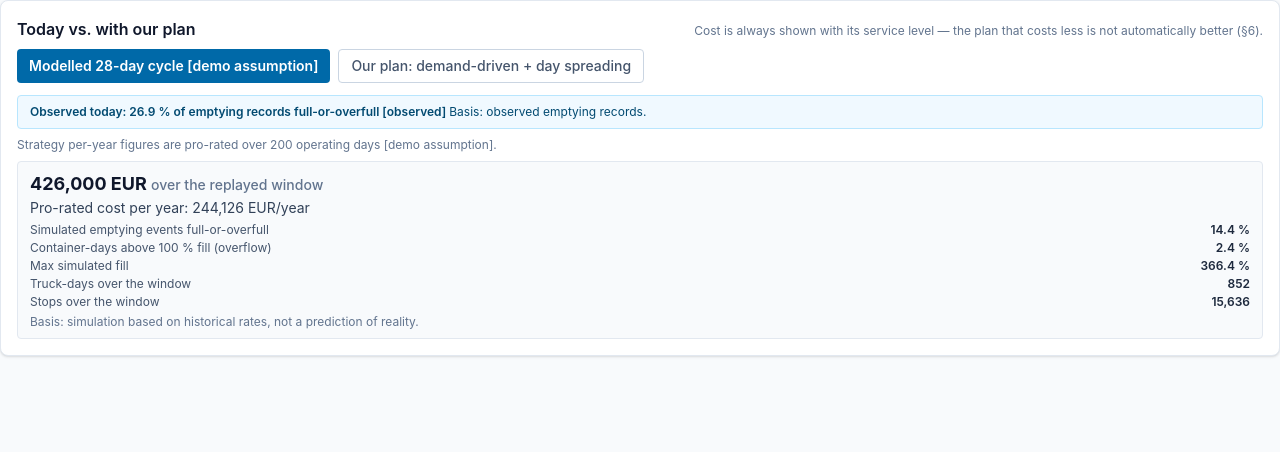
TodayPlanToggle — cost + service together (§6) › plan side shows OUR plan (day_spread) costing LESS with better service, shown straight
The image size is (1280, 452).
Click the button with test id "toggle-plan" at {"x": 491, "y": 66}, box [338,49,644,83]
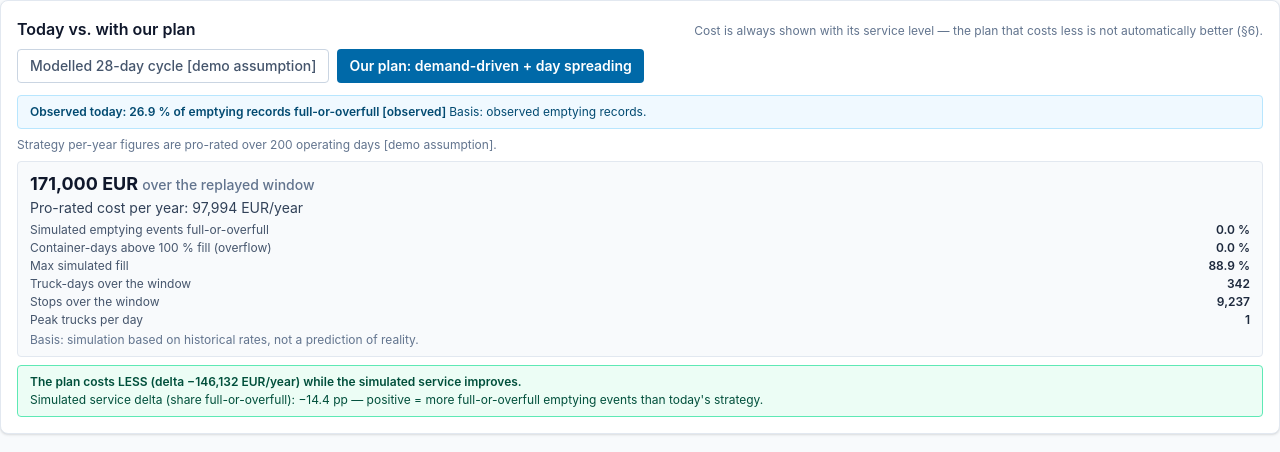
Check: the element with test id "toggle-strategy-plan" shows "171,000 EUR", box [17,161,1263,417]
Check: the element with test id "toggle-strategy-plan" shows "97,994 EUR/year", box [17,161,1263,417]
Check: the element with test id "toggle-strategy-plan" shows "0.0 %", box [1216,222,1250,237]
